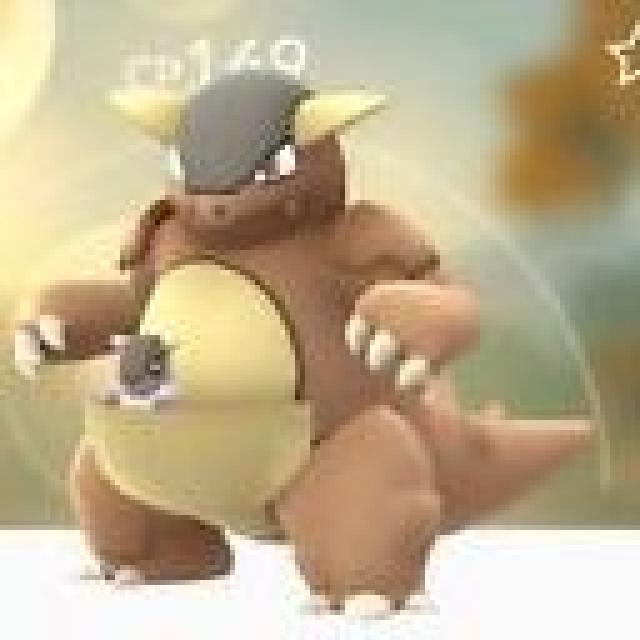Kangaskhan: (39, 79, 492, 612)
